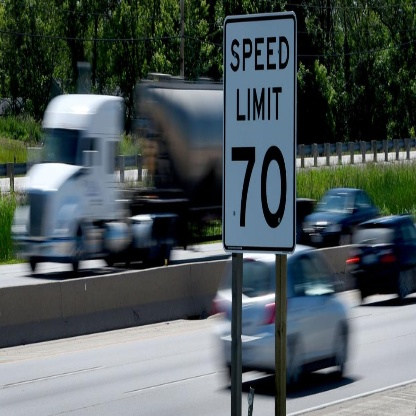limit1: (221, 11, 295, 254)
